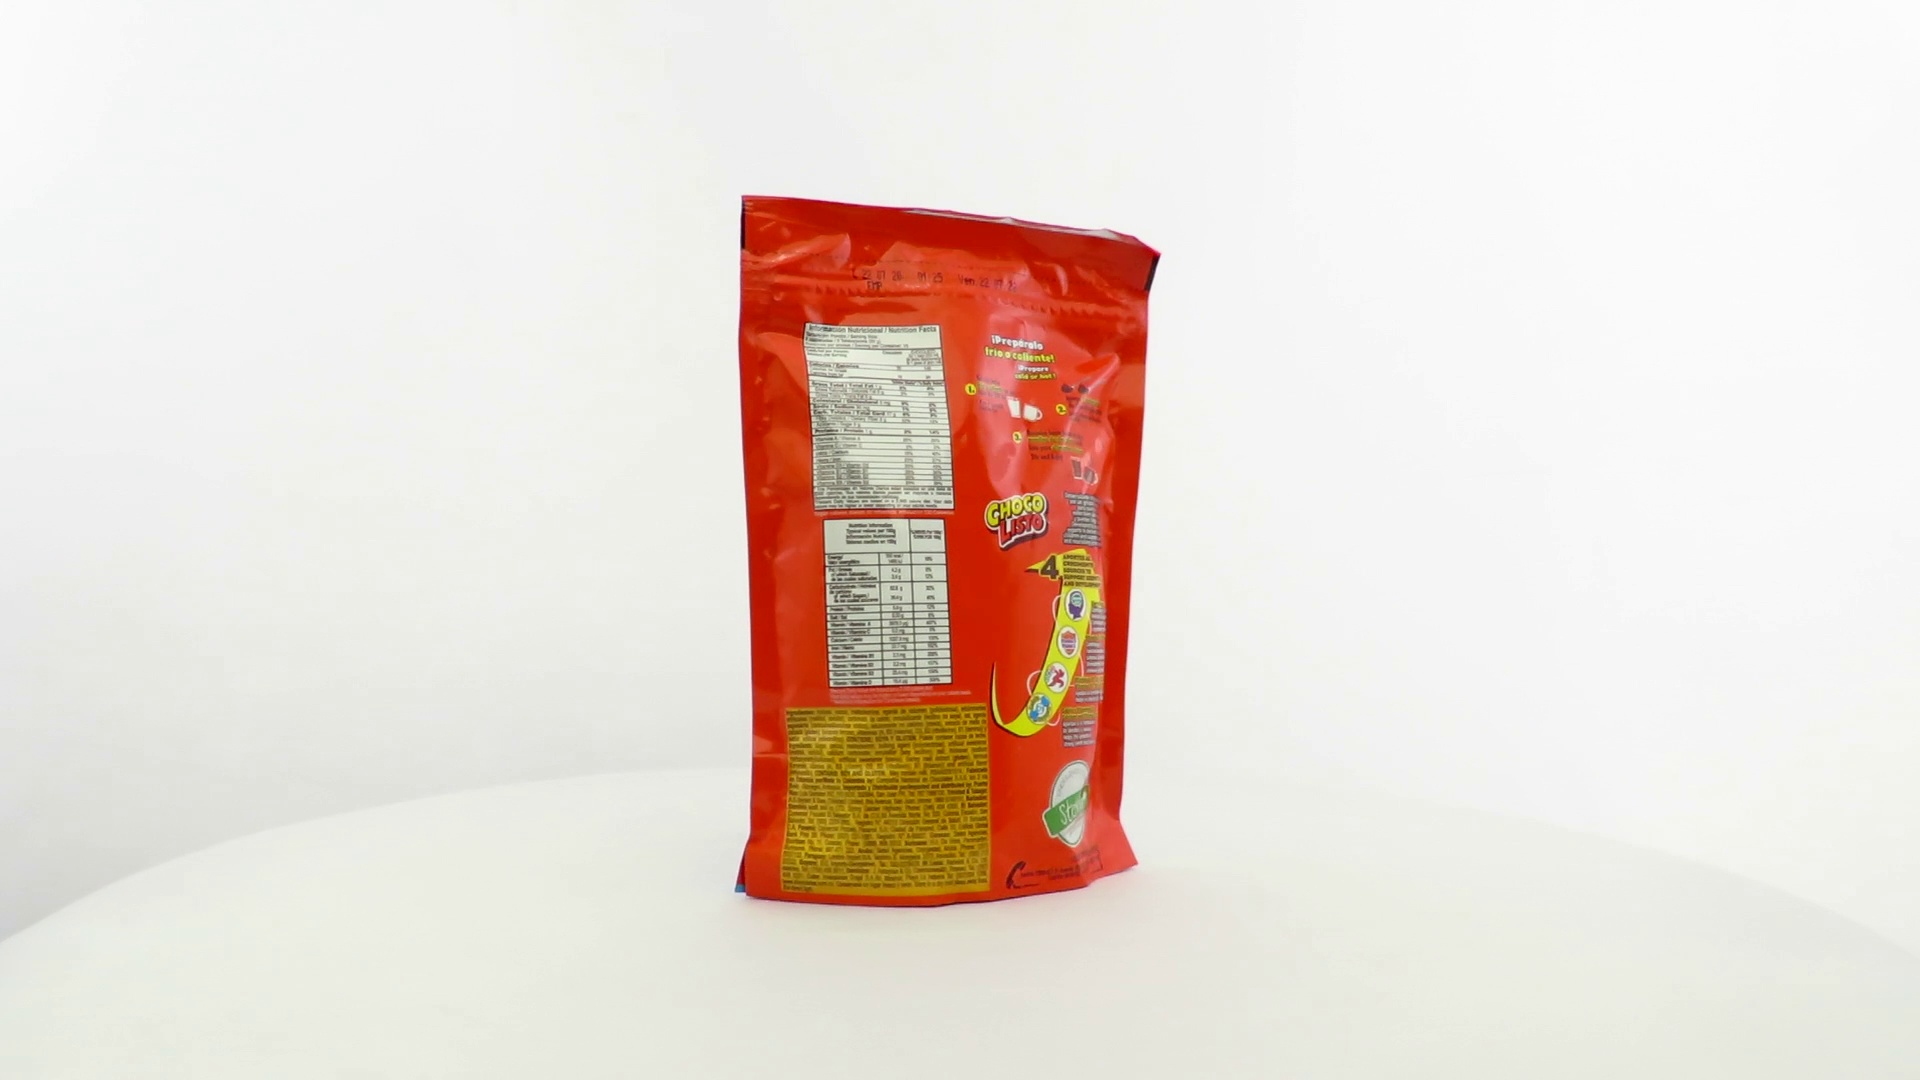COL0170104DYP20000: (729, 190, 1167, 914)
